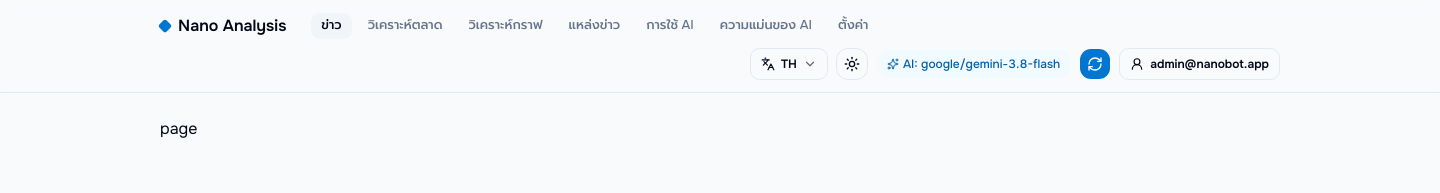
Test case: language switch › switches the whole UI between TH and EN and remembers the choice
This screenshot has width=1440, height=193.
Expected: the link "แหล่งข่าว" is shown, [568,17,620,33]
Expected: the button named "ดึงข่าวตอนนี้" is shown, [1079,48,1111,80]
Step 1. Click the button with aria-label "ภาษา: ไทย" → (789, 64), box [750,48,828,80]
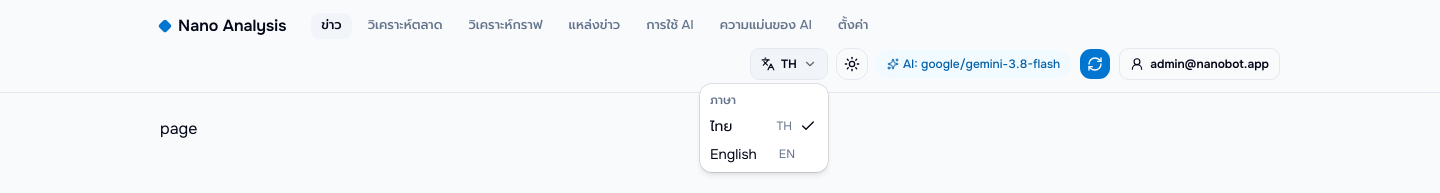
Step 2. Click the menu item "English EN" → (752, 154), box [710,145,795,163]
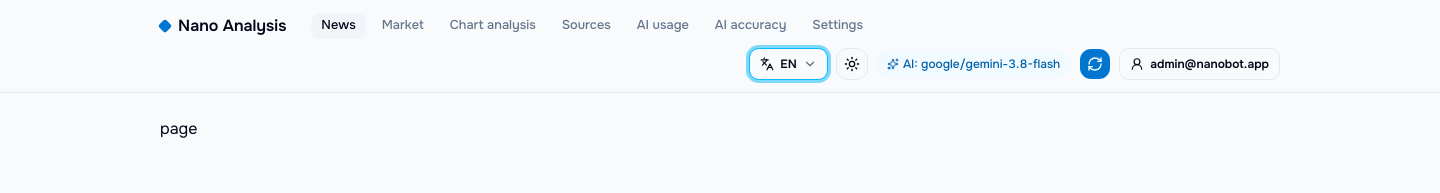
Expected: the link "Sources" is shown, [562,17,611,33]
Expected: the button with aria-label "Language: English" is shown, [749,48,828,80]
